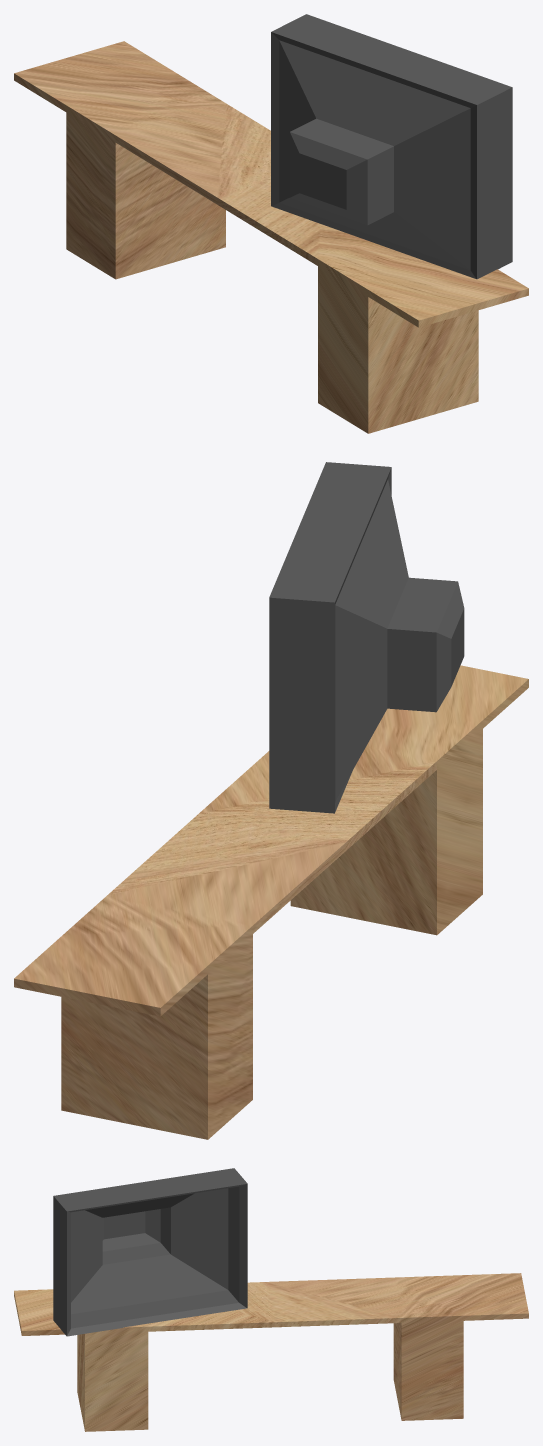
The model's file is CrtTelevisionBase.glb.
3 views of the same model, one above another, from view 1: azimuth 30°, elevation 25°; view 2: azimuth 150°, elevation 25°; view 3: azimuth 270°, elevation 25° (orthographic). The views are drawn at different scales.
Parts seen in each view (by area): view 1: Cube.002, Cube; view 2: Cube.002, Cube; view 3: Cube.002, Cube.
Boxes of the visible parts, x1,y1,x2,y2 form: Cube.002: (14, 41, 528, 433); Cube: (271, 14, 512, 279); Cube.002: (14, 665, 528, 1139); Cube: (269, 462, 464, 813); Cube.002: (14, 1273, 528, 1431); Cube: (53, 1168, 247, 1336).
Bounding box in the file's own units: 2.77 × 4.65 × 9.53.
2 materials, 1 textured.
